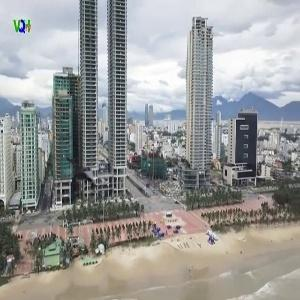drone: (57, 149, 109, 201)
